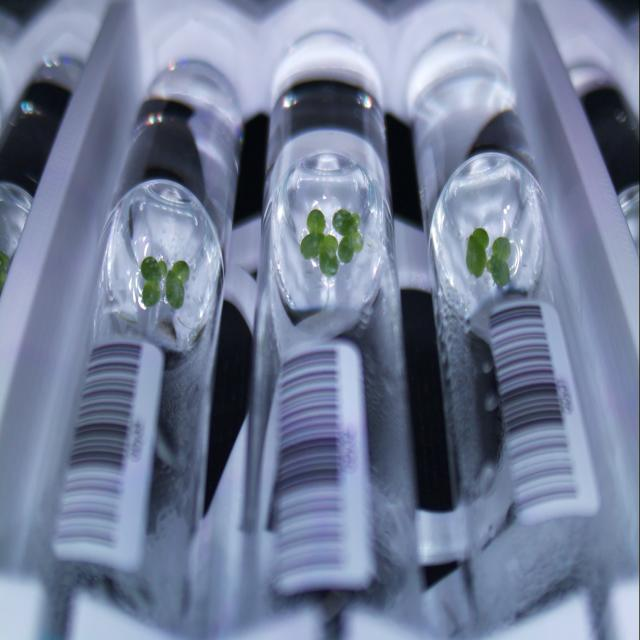Lemna-Gibba: (466, 227, 489, 277), (165, 270, 185, 309), (486, 255, 510, 287), (300, 232, 324, 259), (332, 208, 355, 235), (319, 247, 339, 277), (142, 279, 161, 307), (306, 208, 326, 233), (141, 257, 161, 280), (491, 237, 511, 260), (171, 260, 190, 284), (338, 237, 354, 264), (348, 232, 364, 252), (322, 235, 338, 252), (350, 212, 360, 233), (158, 260, 168, 277)
